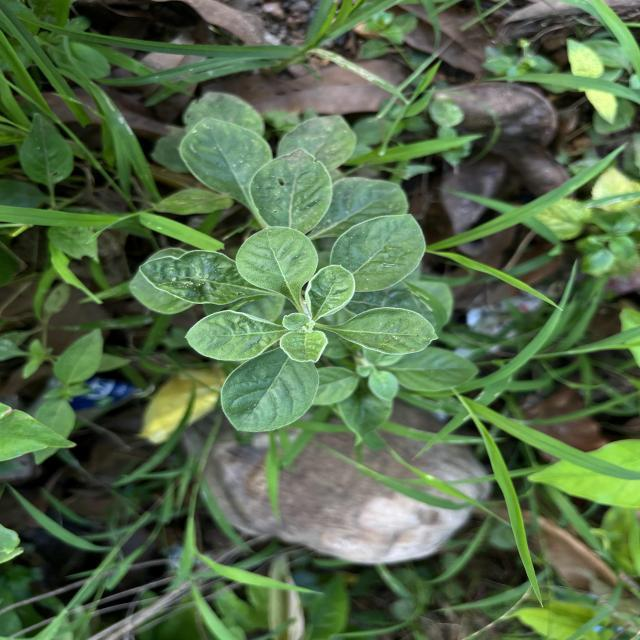Aerva lanata: (219, 348, 322, 433), (328, 211, 428, 296), (232, 225, 320, 307), (322, 304, 442, 358), (182, 307, 289, 363), (304, 261, 358, 321), (277, 328, 330, 364)
